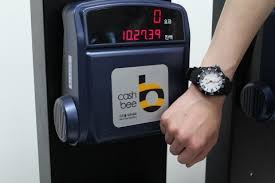terminal: (48, 3, 202, 148)
